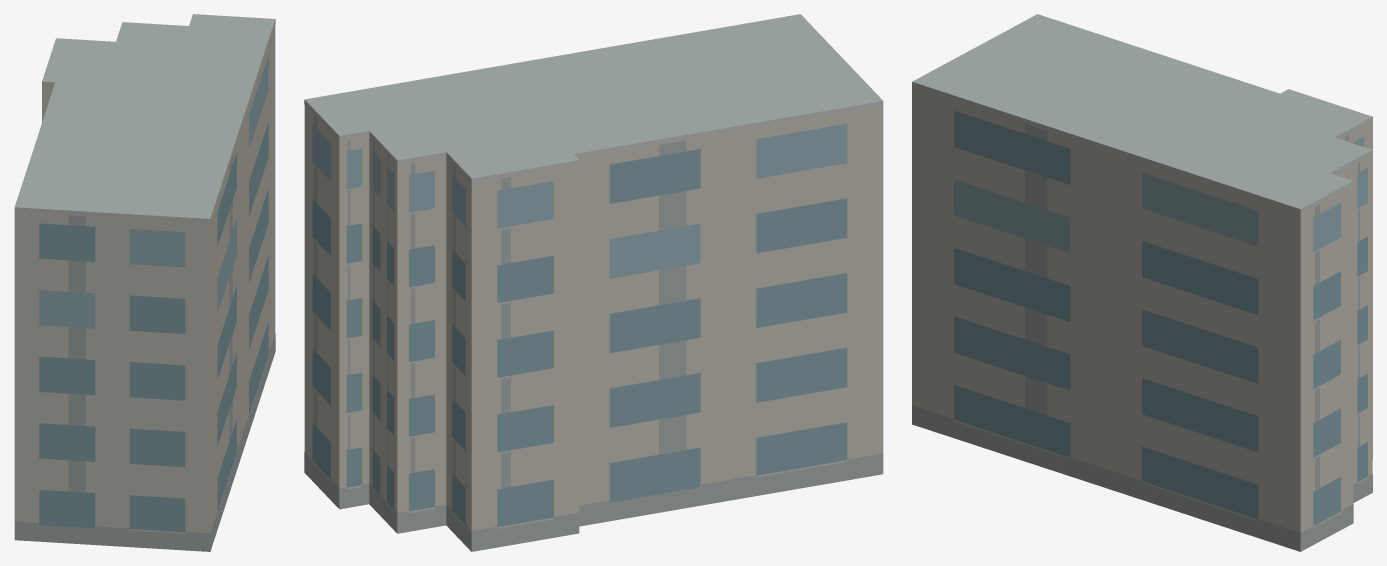
Rendered from survey-upis-33018826.glb.
3 renders of one model, left to right at view 1: azimuth 30°, elevation 25°; view 2: azimuth 150°, elevation 25°; view 3: azimuth 270°, elevation 25°, orthographic. The views are drawn at different scales.
Parts seen in each view (by area): view 1: survey-upis-33018826.tmp; view 2: survey-upis-33018826.tmp; view 3: survey-upis-33018826.tmp.
Boxes of the visible parts, left/top/right/bottom form: survey-upis-33018826.tmp: left=14, top=14, right=275, bottom=551; survey-upis-33018826.tmp: left=304, top=14, right=883, bottom=551; survey-upis-33018826.tmp: left=912, top=14, right=1372, bottom=551.
Size of the model in its own units: 20.04 by 16.4 by 19.99.
